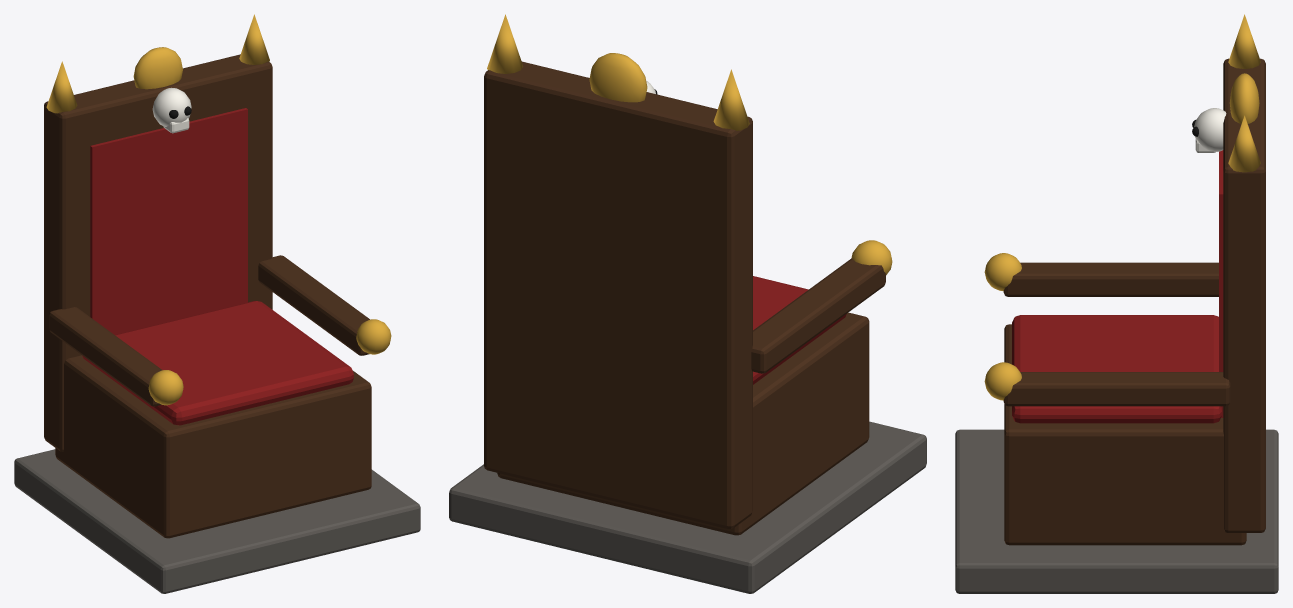
File: throne.glb
3 views of the same model, side by side, from view 1: azimuth 30°, elevation 25°; view 2: azimuth 150°, elevation 25°; view 3: azimuth 270°, elevation 25° (orthographic). The views are drawn at different scales.
Parts seen in each view (by area): view 1: throne; view 2: throne; view 3: throne.
Part boxes in pixels (<box>): throne: <box>14,14,420,593</box>; throne: <box>449,14,926,593</box>; throne: <box>955,14,1278,593</box>.
Bounding box in the file's own units: 0.76 × 1.2 × 0.76.
